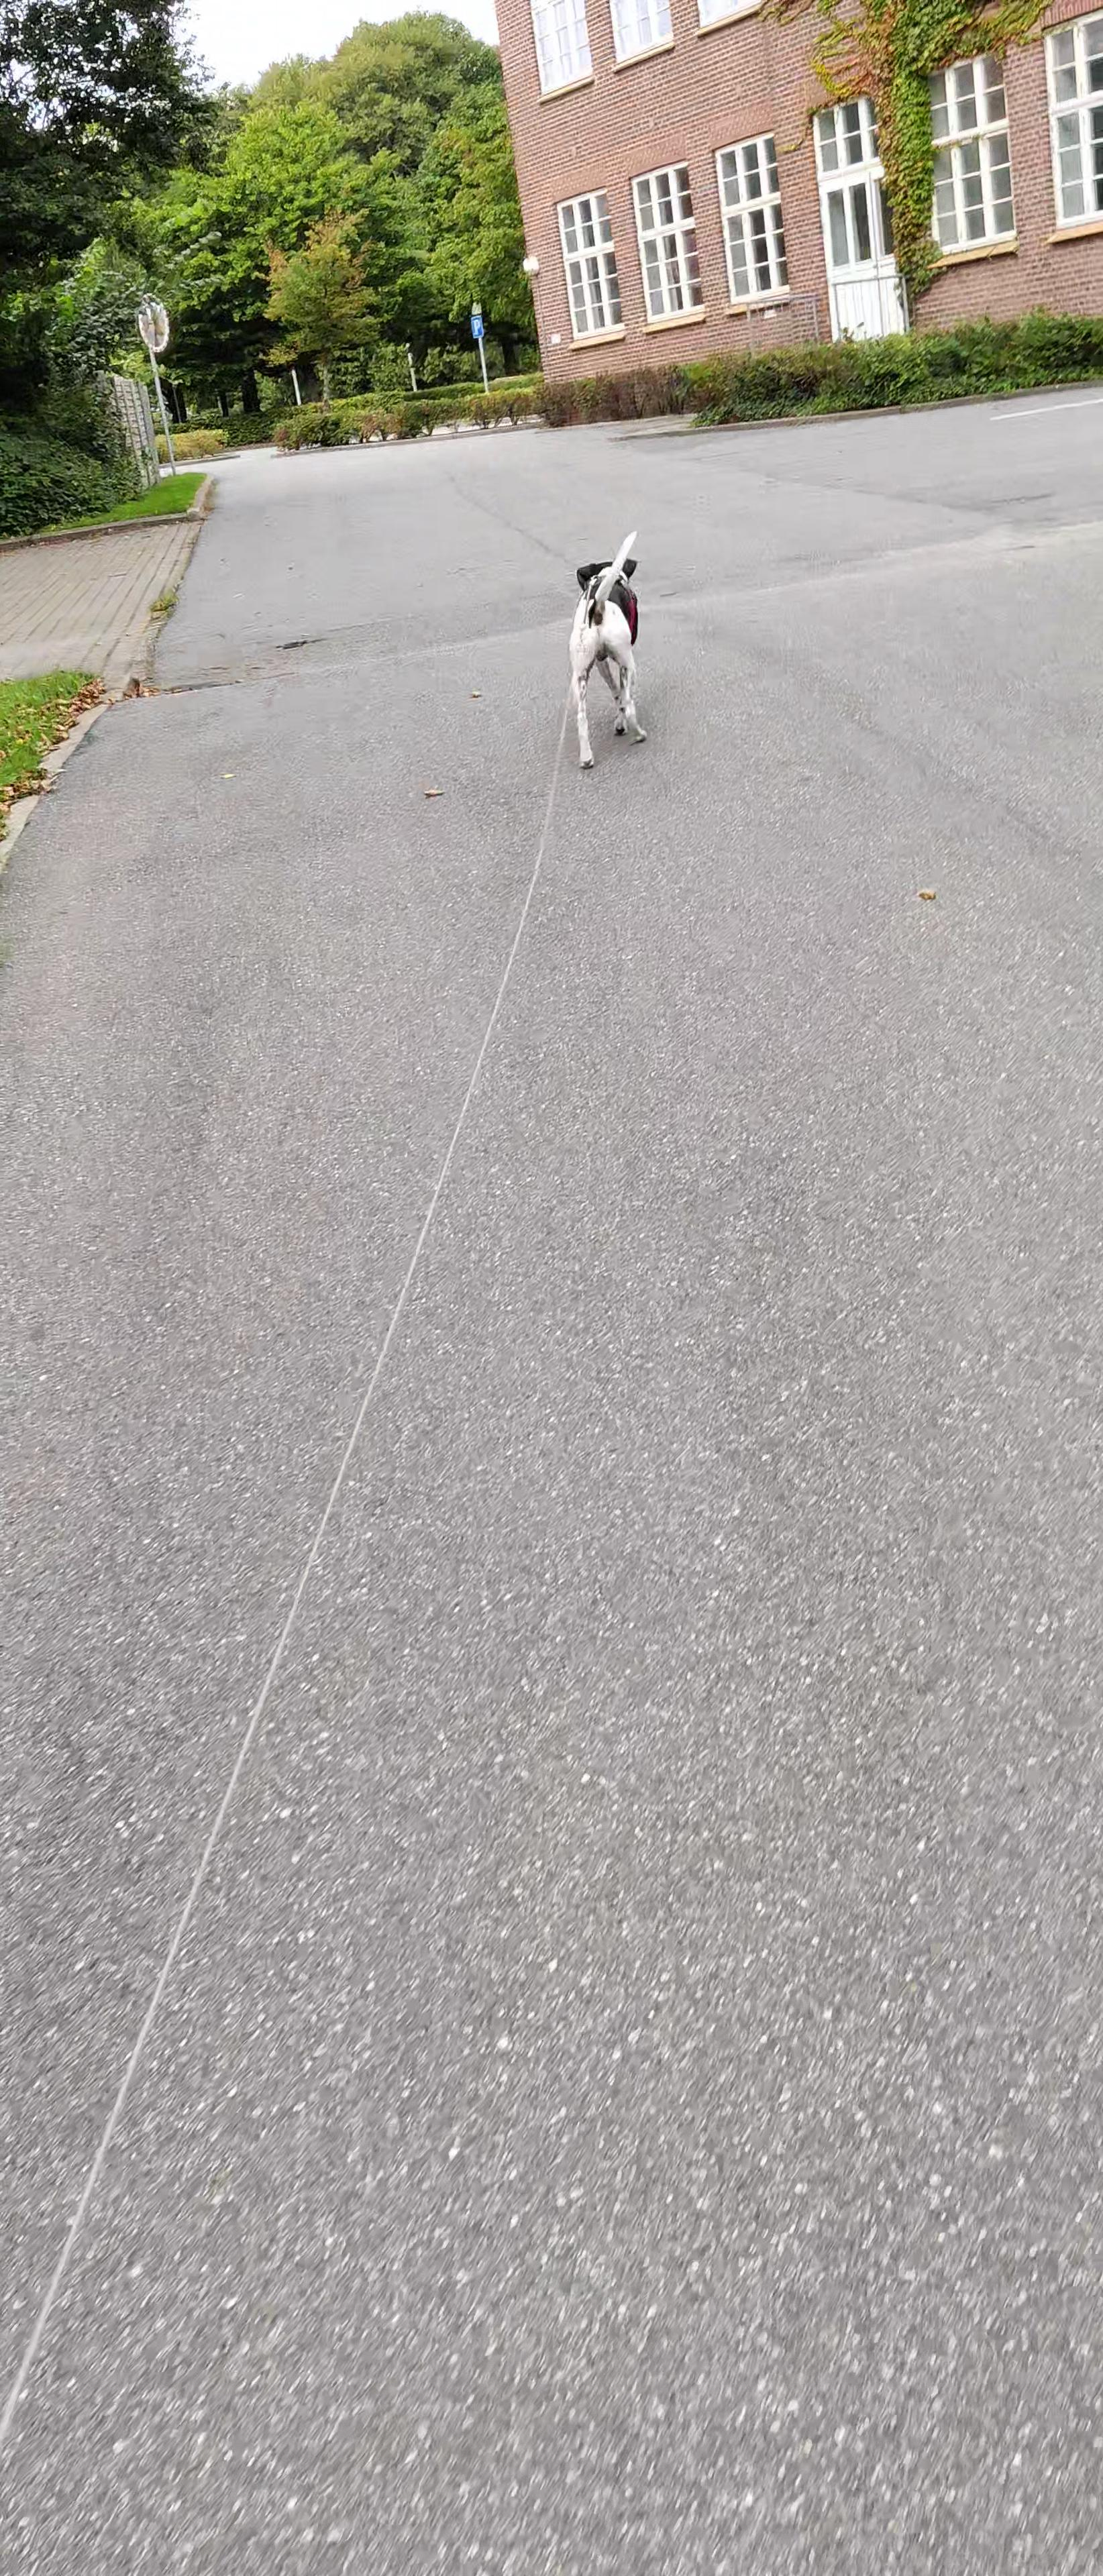Dog: (561, 508, 658, 784)
